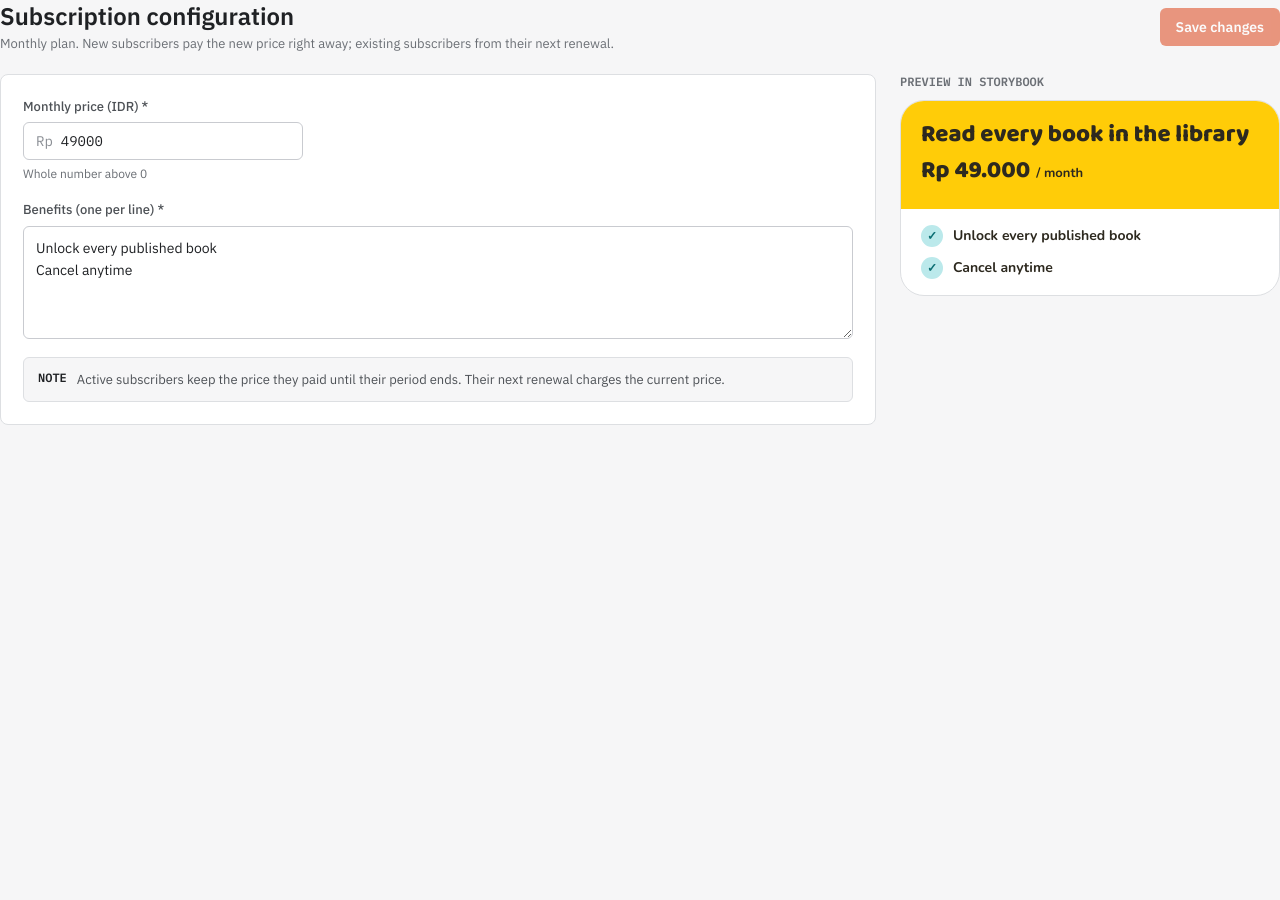
Test: PlanForm › asks to confirm a price change with the CR-001 wording, then saves
The image size is (1280, 900).
Replace the text in the field labelled "Monthly price (IDR) *" with "59000" at (175, 141), box x1=61 y1=123 x2=290 y2=159
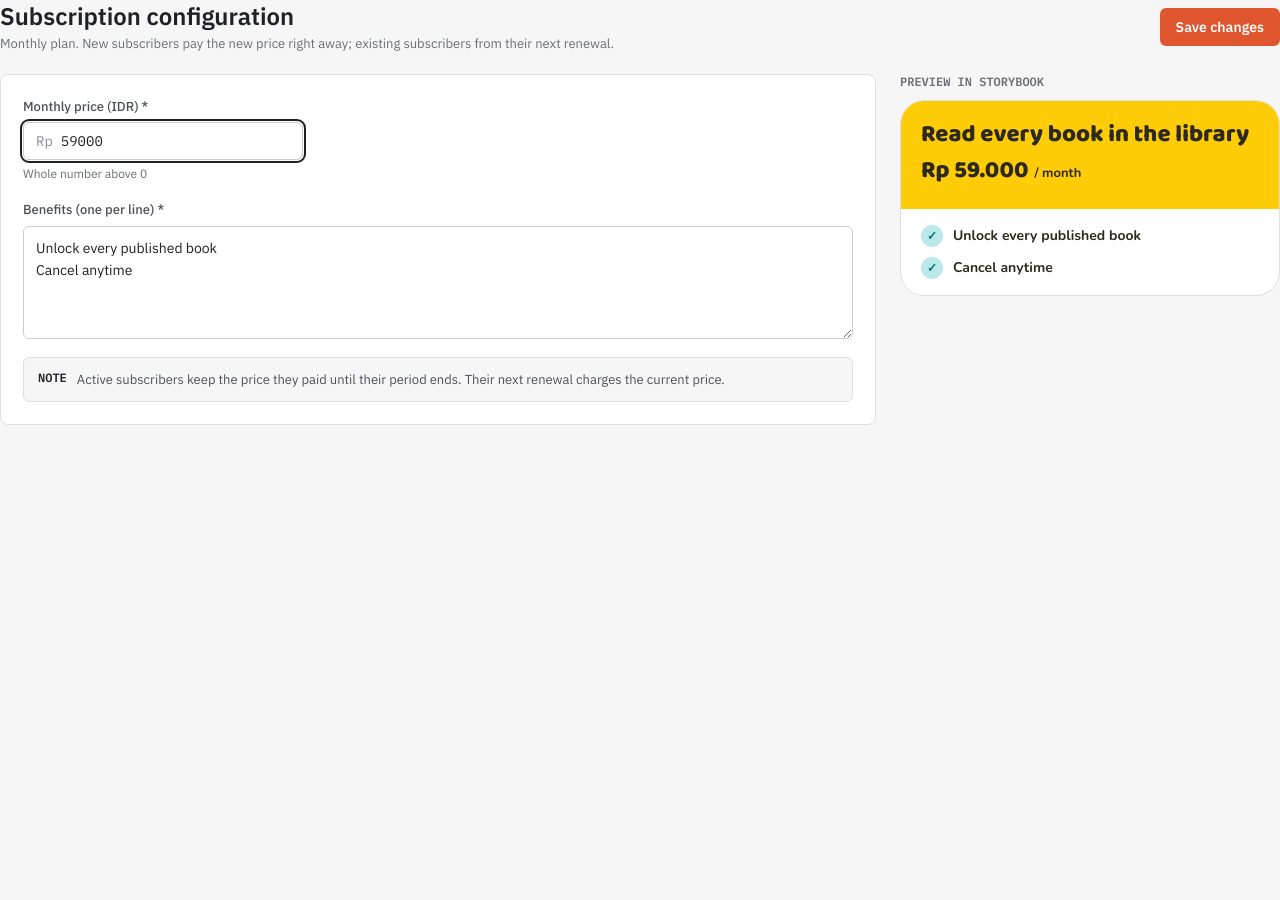
Click the button "Save changes".
click(1220, 27)  # box x1=1160 y1=8 x2=1279 y2=46
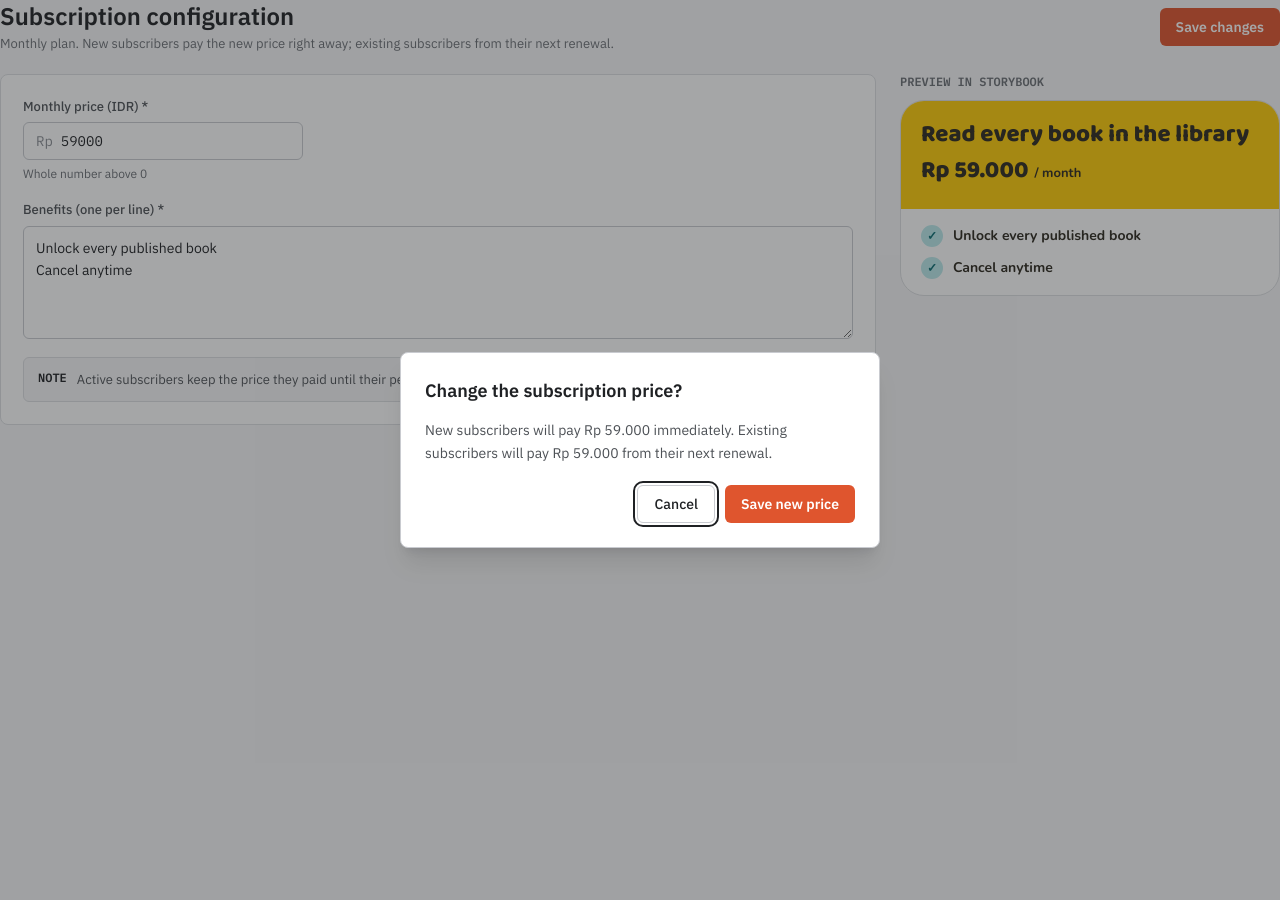
Check: the dialog "Change the subscription price?" shows "New subscribers will pay Rp 59.000 immediately. Existing subscribers will pay Rp 59.000 from their next renewal.", box x1=400 y1=352 x2=880 y2=548
Click the button "Save new price".
click(790, 504)  # box x1=725 y1=485 x2=855 y2=523
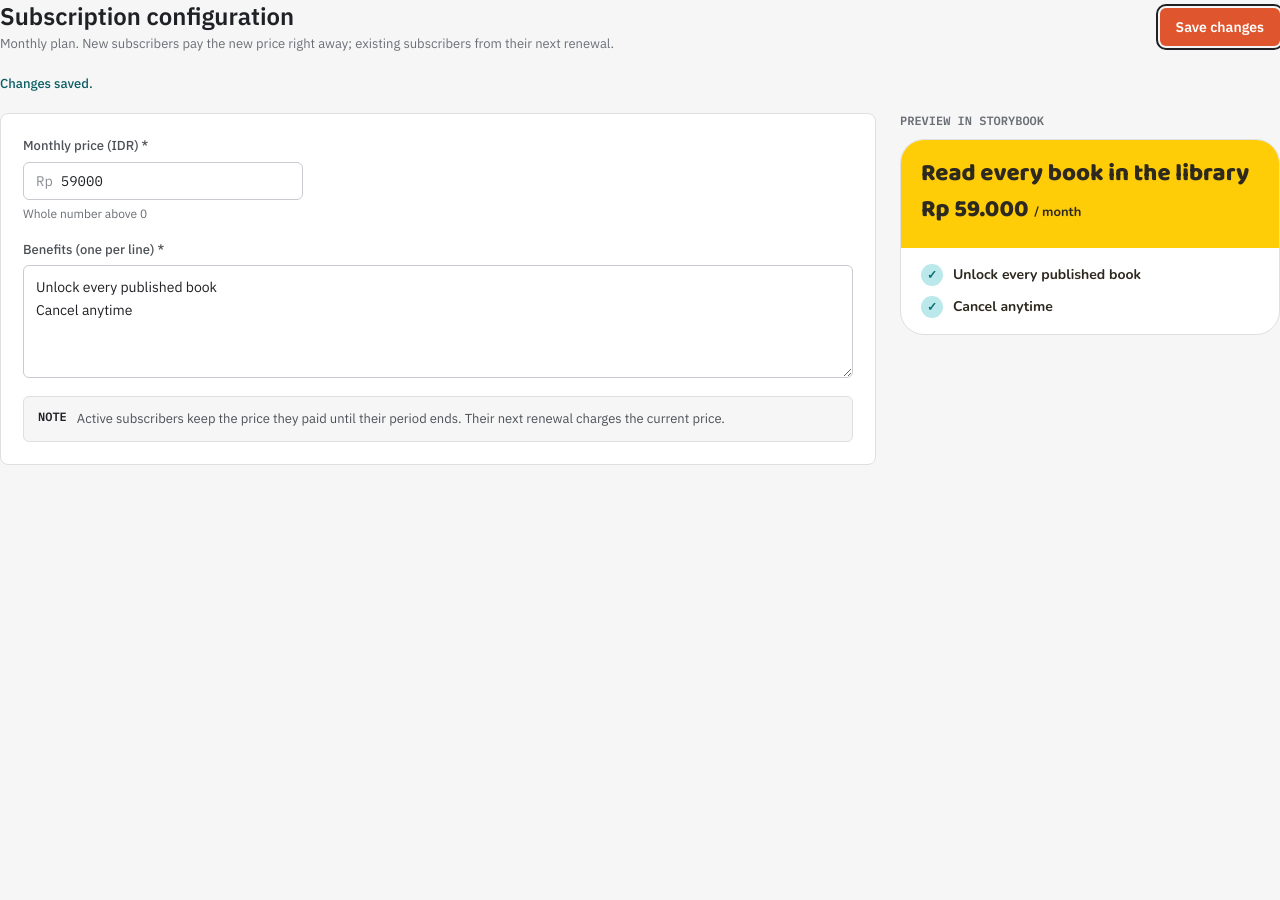
Check: the text "Changes saved." is shown, box x1=0 y1=74 x2=93 y2=92
